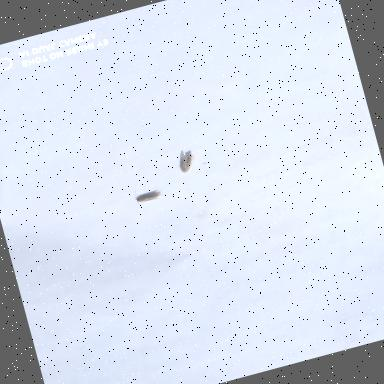pbw: (134, 187, 164, 207), (176, 150, 200, 174)
